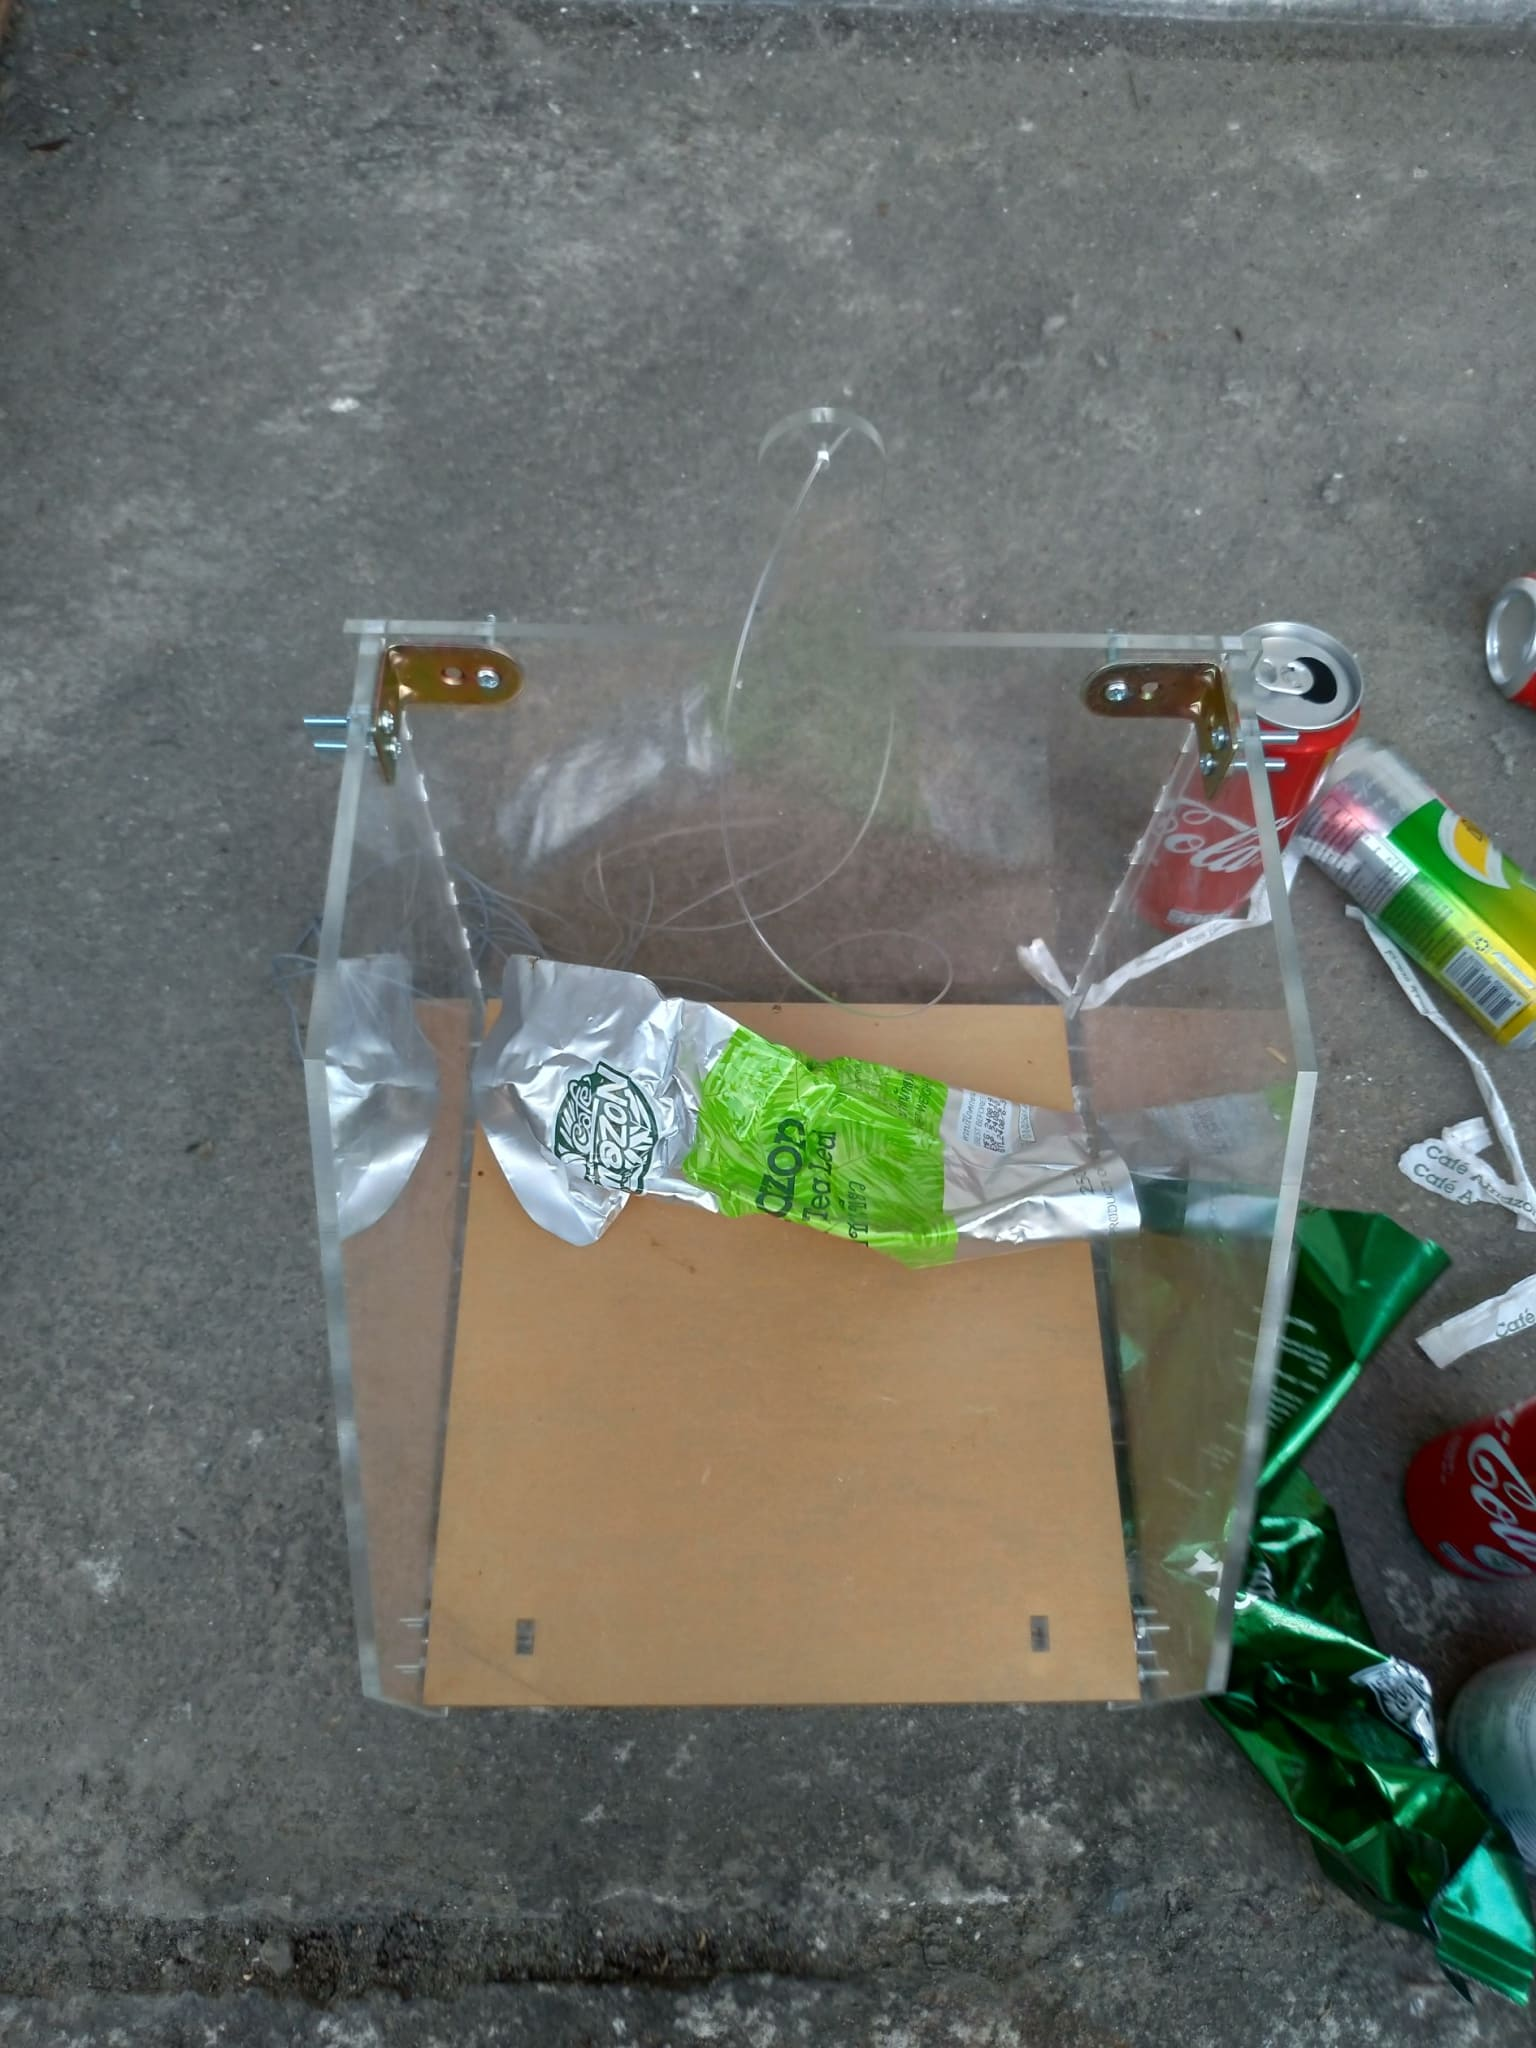AlCan: (1307, 751, 1536, 1043), (1137, 622, 1360, 914), (1404, 1414, 1536, 1571)
Others: (1117, 1184, 1536, 2013), (470, 948, 1150, 1251), (1338, 908, 1536, 1361), (1016, 861, 1307, 1005)
